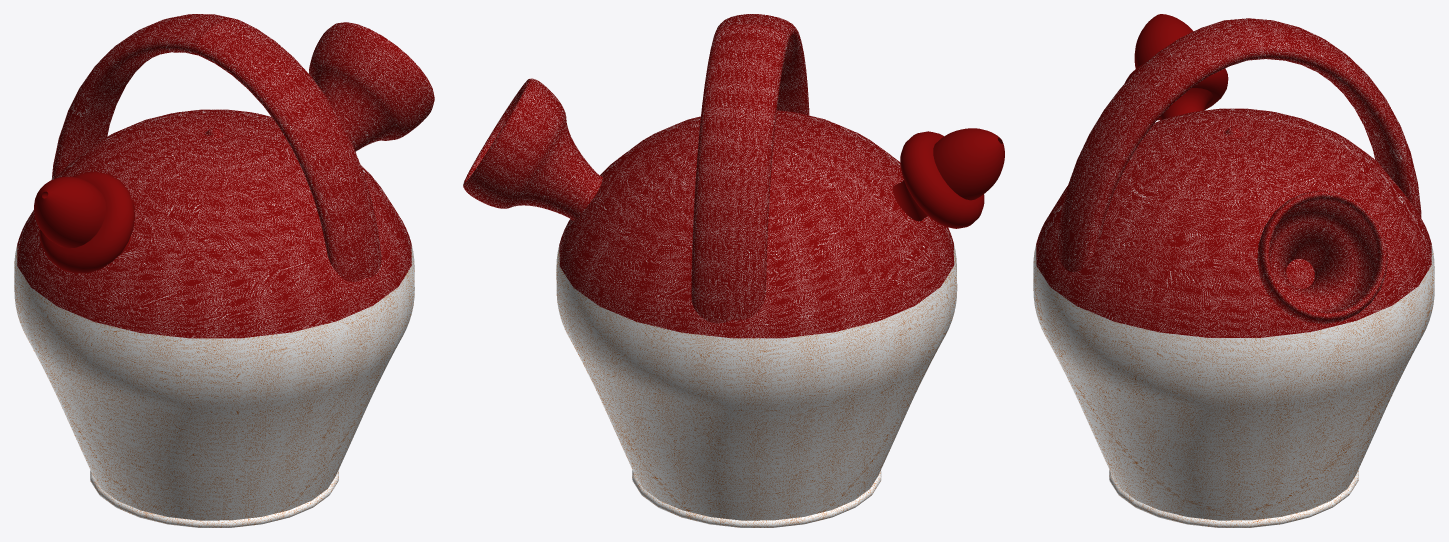
3 renders of one model, left to right at view 1: azimuth 30°, elevation 25°; view 2: azimuth 150°, elevation 25°; view 3: azimuth 270°, elevation 25°, orthographic.
Visible parts, largest first — view 1: mesh2_mesh2-geometry, mesh4_mesh4-geometry, mesh3_mesh3-geometry, mesh1_mesh1-geometry; view 2: mesh2_mesh2-geometry, mesh4_mesh4-geometry, mesh3_mesh3-geometry, mesh1_mesh1-geometry; view 3: mesh2_mesh2-geometry, mesh4_mesh4-geometry, mesh3_mesh3-geometry, mesh1_mesh1-geometry.
Boxes of the visible parts, <box> form: mesh2_mesh2-geometry: <box>14,109,414,527</box>; mesh4_mesh4-geometry: <box>51,14,381,281</box>; mesh3_mesh3-geometry: <box>309,22,434,151</box>; mesh1_mesh1-geometry: <box>34,172,135,273</box>; mesh2_mesh2-geometry: <box>556,110,957,527</box>; mesh4_mesh4-geometry: <box>691,14,809,323</box>; mesh3_mesh3-geometry: <box>463,78,602,220</box>; mesh1_mesh1-geometry: <box>892,128,1004,228</box>; mesh2_mesh2-geometry: <box>1033,108,1434,527</box>; mesh4_mesh4-geometry: <box>1055,18,1421,271</box>; mesh3_mesh3-geometry: <box>1257,190,1387,324</box>; mesh1_mesh1-geometry: <box>1124,14,1228,120</box>.
Size of the model in its own units: 0.6357 by 0.6014 by 0.4839.
